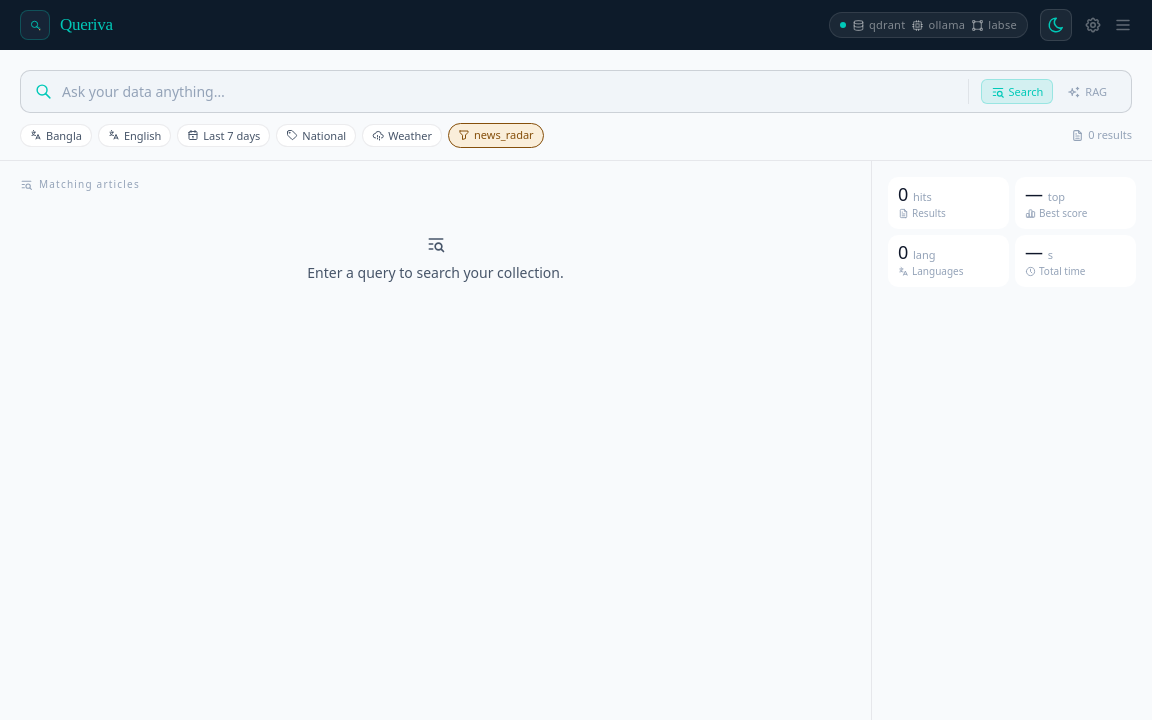
Test: App › should hide ai summary when toggling from rag to search mode
This screenshot has width=1152, height=720.
Click the radio button labelled "RAG" at (1087, 92), box [1057,79,1117,104]
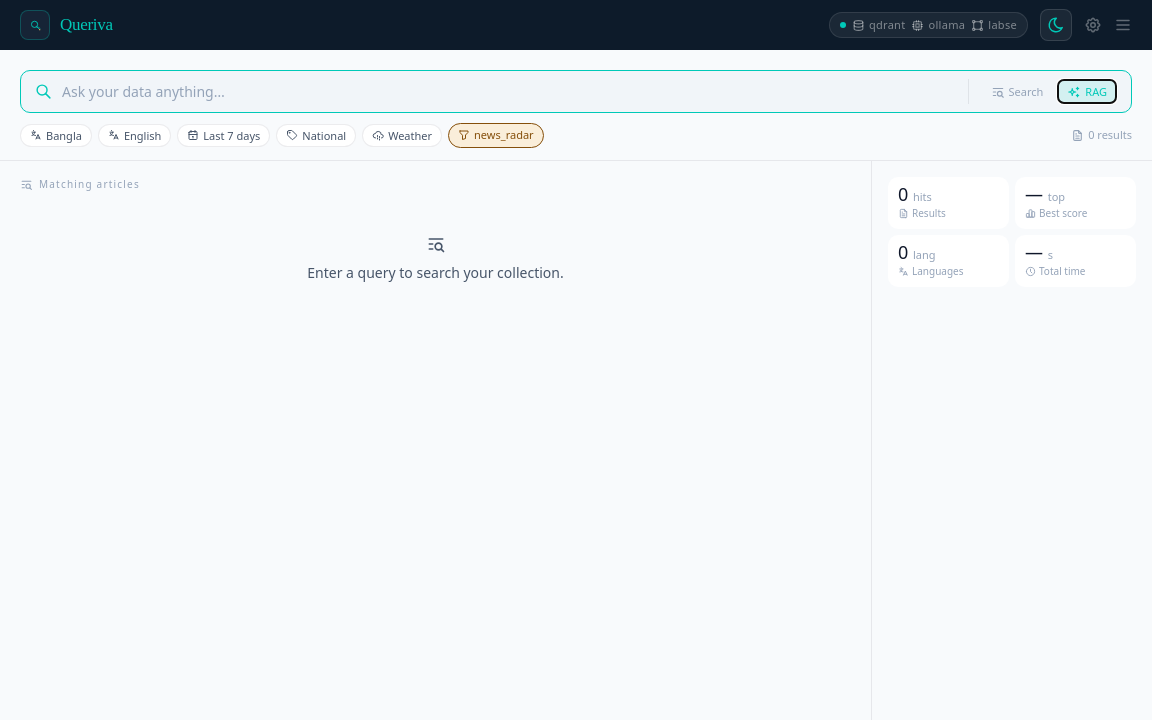
Type "floods in Dhaka last week" into the search field named "Search query" at (510, 92), box [62,71,958,112]
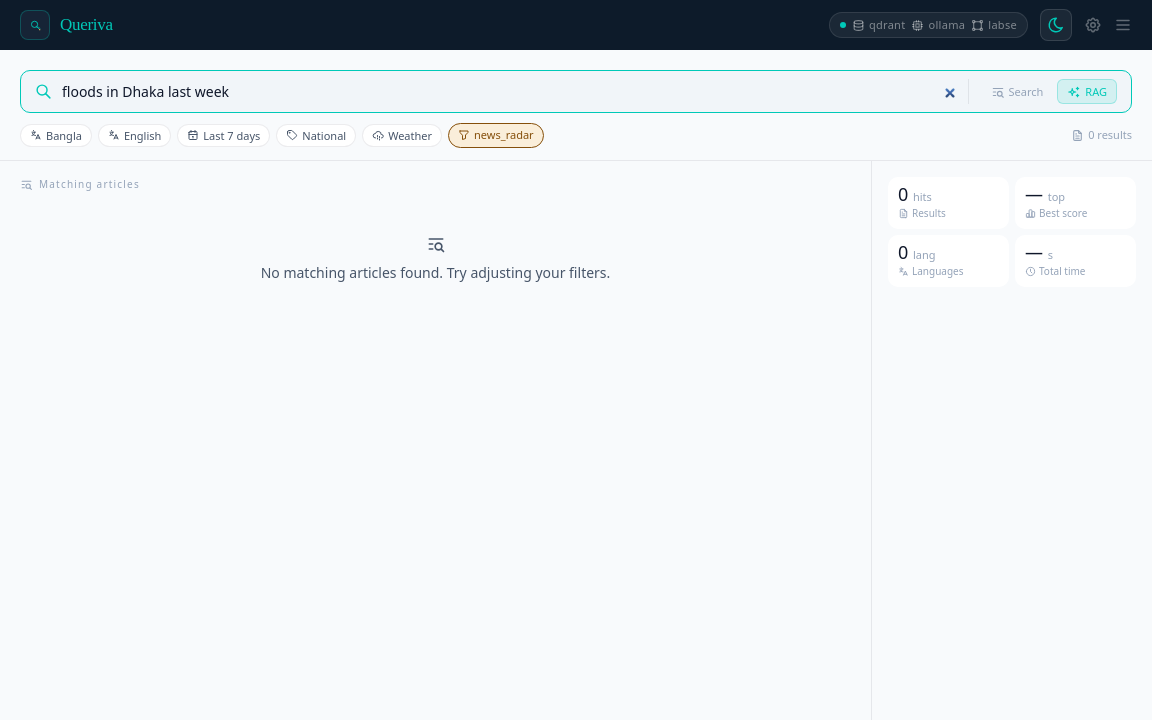
Press Enter
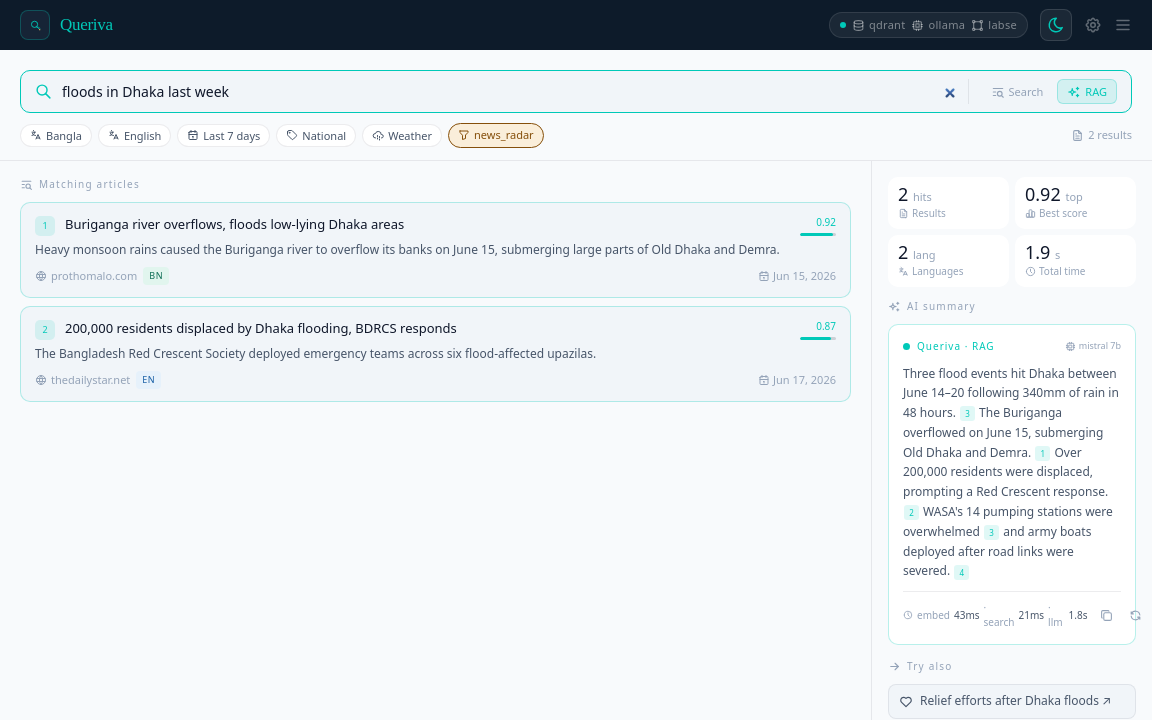
Expected: the text "AI summary" is shown, [888,298,976,312]
Click the radio button labelled "Search" at (1017, 92), box [980,79,1053,104]
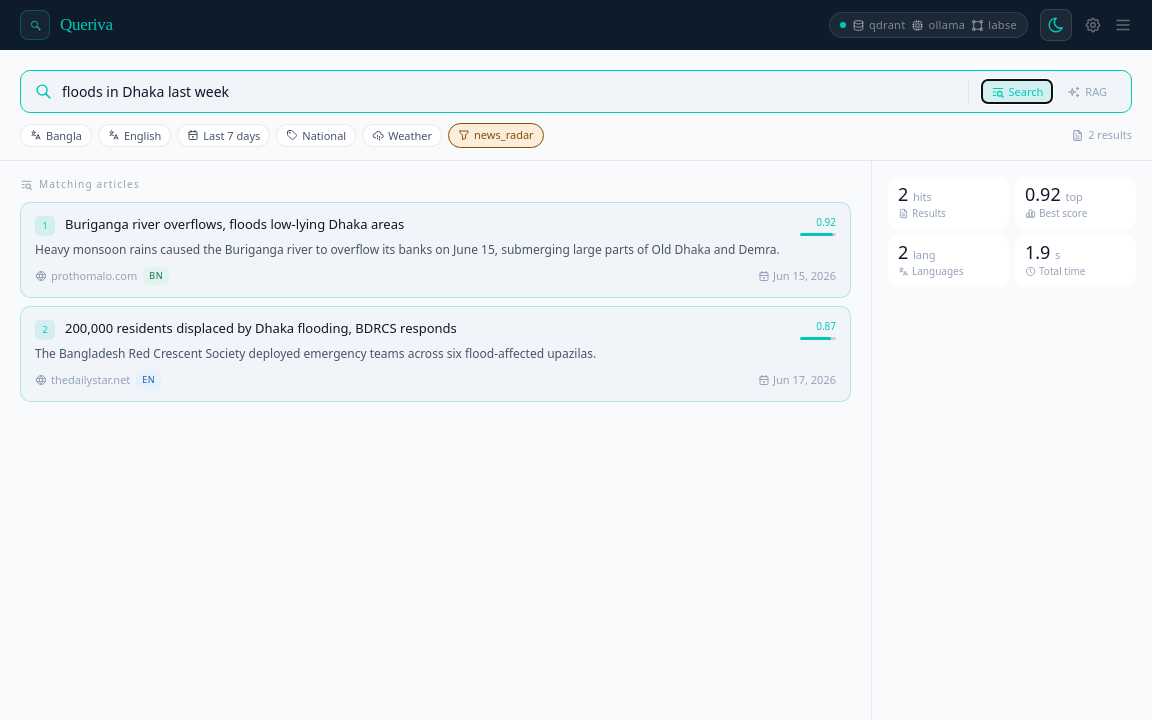
Expected: the text "AI summary" is gone
